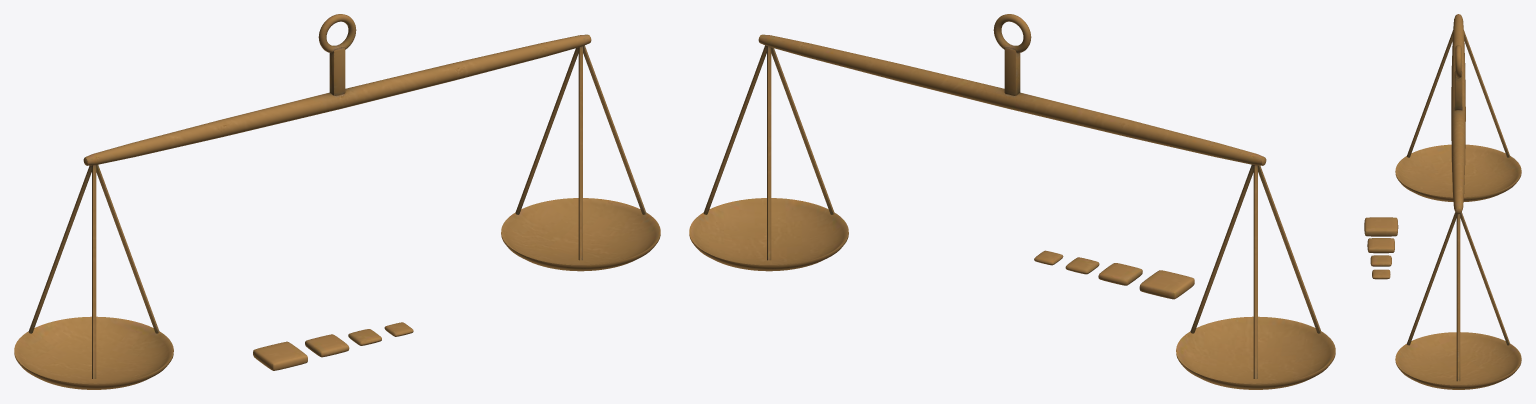
File: scales.glb
3 views of the same model, side by side, from view 1: azimuth 30°, elevation 25°; view 2: azimuth 150°, elevation 25°; view 3: azimuth 270°, elevation 25° (orthographic). The views are drawn at different scales.
Parts seen in each view (by area): view 1: scales; view 2: scales; view 3: scales.
Part boxes in pixels (x1,y1,x2,y2): scales: (14, 14, 660, 389); scales: (689, 14, 1335, 389); scales: (1364, 14, 1521, 389).
Bounding box in the file's own units: 0.2953 × 0.1343 × 0.0814.
Materials: 1 (1 with a texture image).
